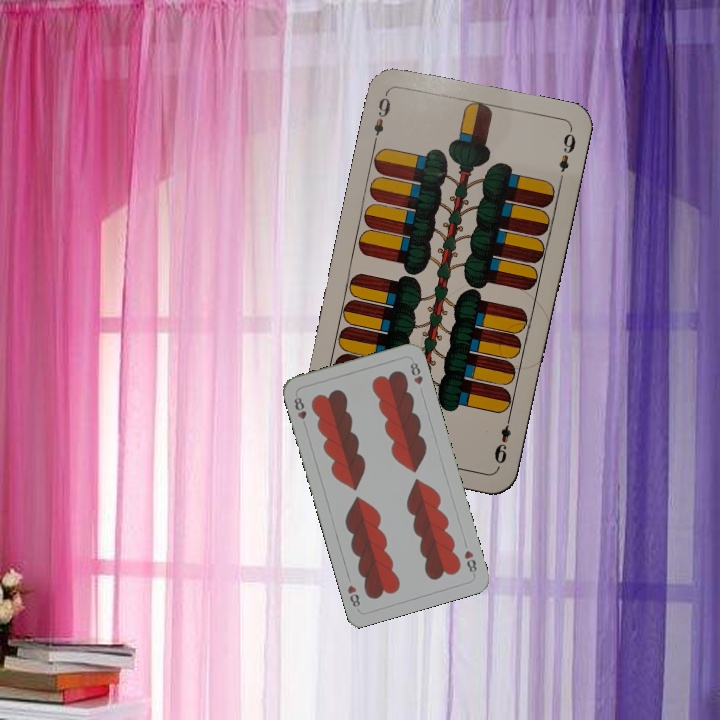E9: (369, 88, 393, 147), (490, 411, 514, 467)
H8: (290, 391, 309, 430), (460, 546, 479, 578)
